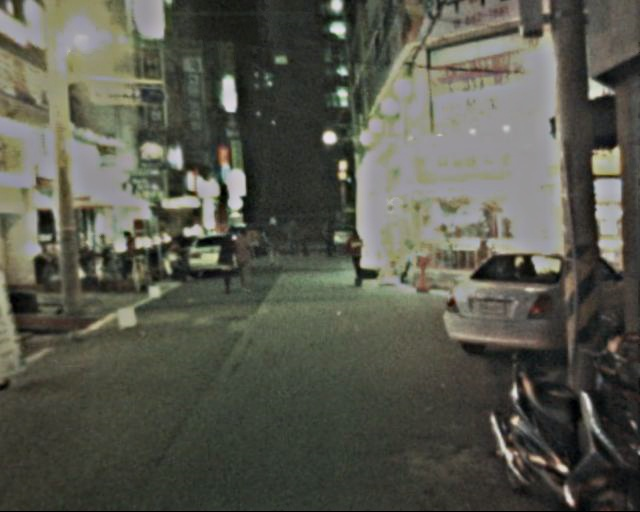person: (226, 223, 260, 292), (210, 225, 239, 291), (340, 224, 369, 287), (289, 219, 333, 257), (260, 213, 286, 270)
